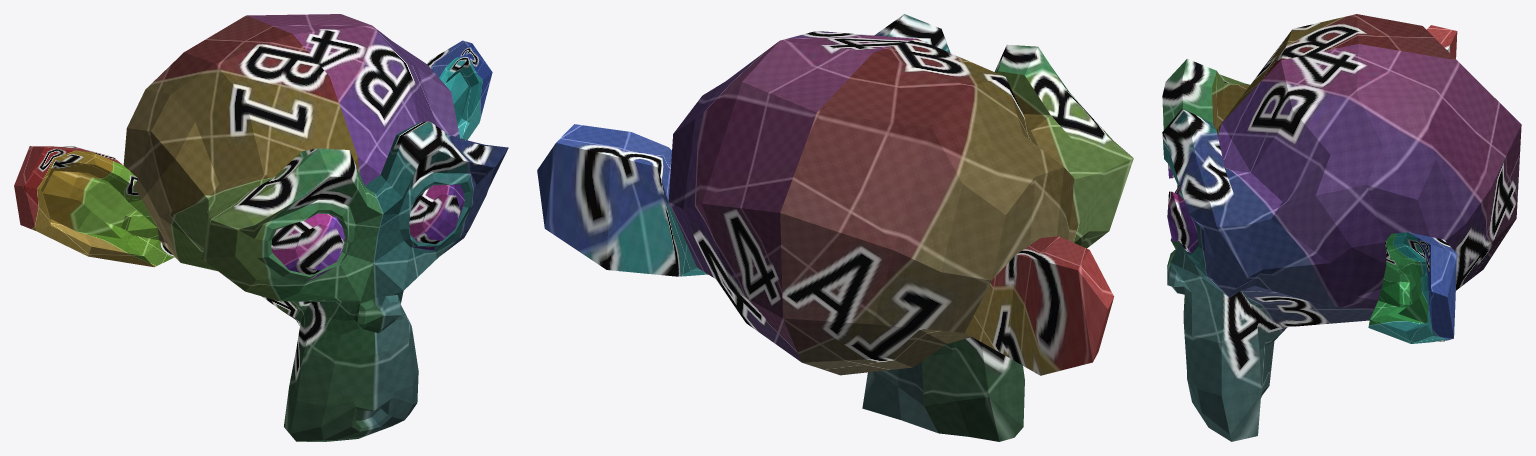
File: Suzanne.glb
3 views of the same model, side by side, from view 1: azimuth 30°, elevation 25°; view 2: azimuth 150°, elevation 25°; view 3: azimuth 270°, elevation 25° (orthographic). The views are drawn at different scales.
Visible parts, largest first — view 1: Suzanne; view 2: Suzanne; view 3: Suzanne.
Boxes of the visible parts, x1,y1,x2,y2 form: Suzanne: [14, 14, 508, 441]; Suzanne: [537, 14, 1133, 441]; Suzanne: [1162, 14, 1521, 441].
Size of the model in its own units: 2.73 by 1.97 by 1.7.
1 material, 1 textured.
